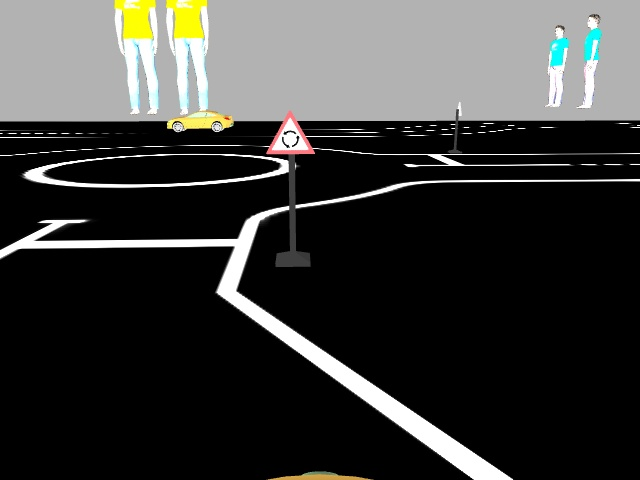Roundabout: (264, 107, 317, 155)
